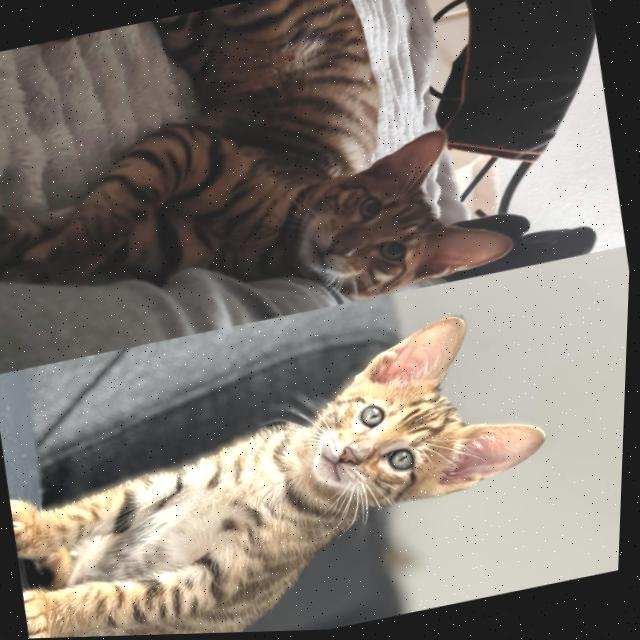Toyger: (0, 0, 533, 377), (0, 297, 584, 640)
